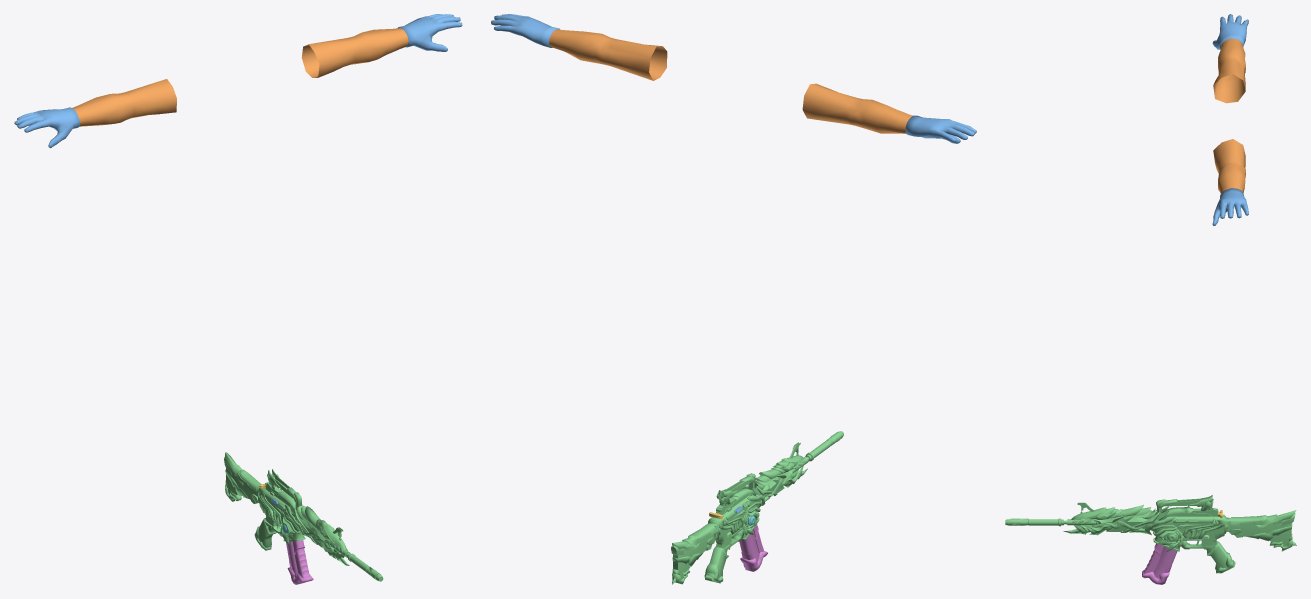
Rendered from PV-M4A1_S_BornBeast2.obj.
3 renders of one model, left to right at view 1: azimuth 30°, elevation 25°; view 2: azimuth 150°, elevation 25°; view 3: azimuth 270°, elevation 25°, orthographic. The views are drawn at different scales.
Parts seen in each view (by area): view 1: PV-M4A1_S_BornBeast2_Fview-arm2, PV-M4A1_S_BornBeast2_PV-M4A1_S_BornBeast003, PV-M4A1_S_BornBeast2_Fview-hand2, PV-M4A1_S_BornBeast2_mac; view 2: PV-M4A1_S_BornBeast2_Fview-arm2, PV-M4A1_S_BornBeast2_PV-M4A1_S_BornBeast003, PV-M4A1_S_BornBeast2_Fview-hand2, PV-M4A1_S_BornBeast2_mac; view 3: PV-M4A1_S_BornBeast2_PV-M4A1_S_BornBeast003, PV-M4A1_S_BornBeast2_Fview-arm2, PV-M4A1_S_BornBeast2_Fview-hand2, PV-M4A1_S_BornBeast2_mac.
Boxes of the visible parts, x1,y1,x2,y2 form: PV-M4A1_S_BornBeast2_Fview-arm2: (72,28,408,126); PV-M4A1_S_BornBeast2_PV-M4A1_S_BornBeast003: (224,452,383,581); PV-M4A1_S_BornBeast2_Fview-hand2: (14,14,462,148); PV-M4A1_S_BornBeast2_mac: (286,540,313,584); PV-M4A1_S_BornBeast2_Fview-arm2: (549,29,912,133); PV-M4A1_S_BornBeast2_PV-M4A1_S_BornBeast003: (671,431,843,584); PV-M4A1_S_BornBeast2_Fview-hand2: (491,14,976,143); PV-M4A1_S_BornBeast2_mac: (739,524,767,571); PV-M4A1_S_BornBeast2_PV-M4A1_S_BornBeast003: (1005,495,1296,573); PV-M4A1_S_BornBeast2_Fview-arm2: (1213,38,1245,193); PV-M4A1_S_BornBeast2_Fview-hand2: (1212,14,1248,225); PV-M4A1_S_BornBeast2_mac: (1142,543,1177,584).
Size of the model in its own units: 4.18 by 4.5 by 2.54.
